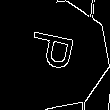P_E: (26, 31, 84, 79)
